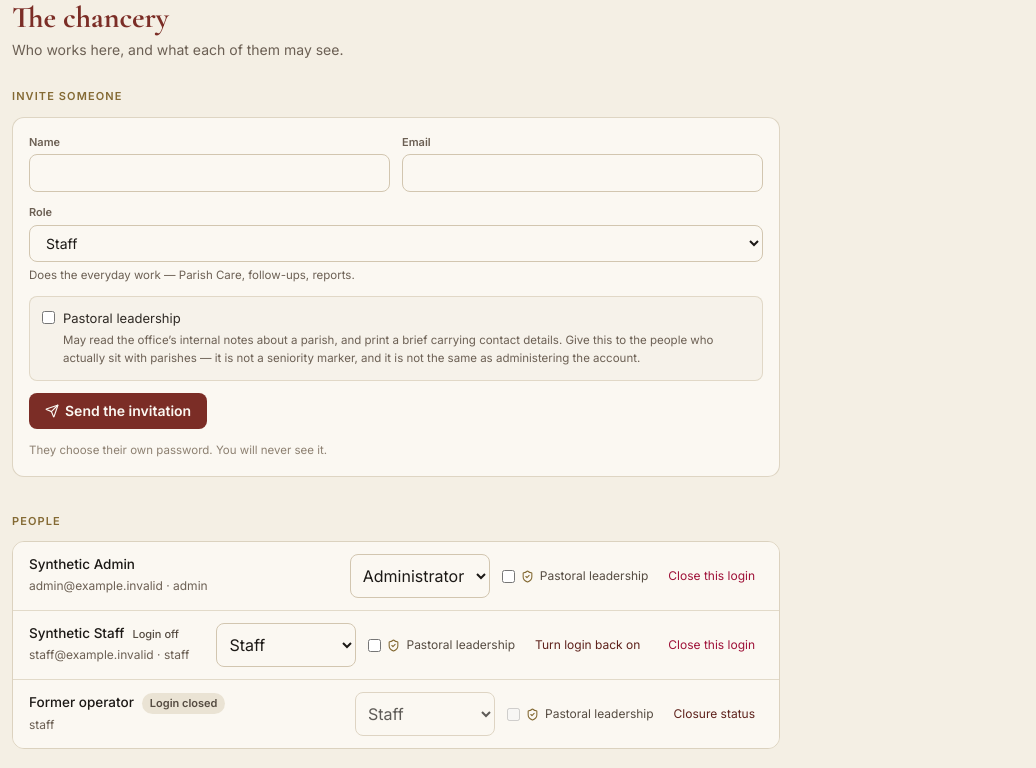
Test: chancery closure controls › en: an unproven restore stays unknown and cannot restore a closed login
Click the button "Turn login back on": (588, 645) [527,623,648,667]
(page scrolled)
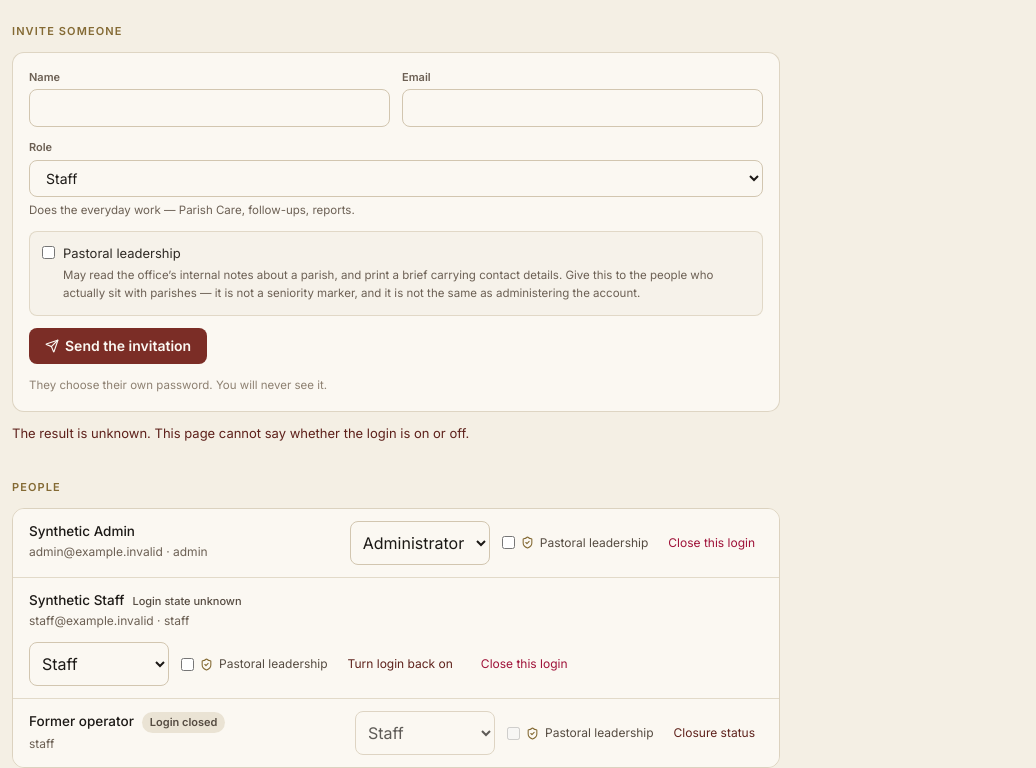
Expected: the message reads "The result is unknown. This page cannot say whether the login is on or off.", [12,425,469,441]
Expected: the text "Login state unknown" is shown, [132,594,242,608]
